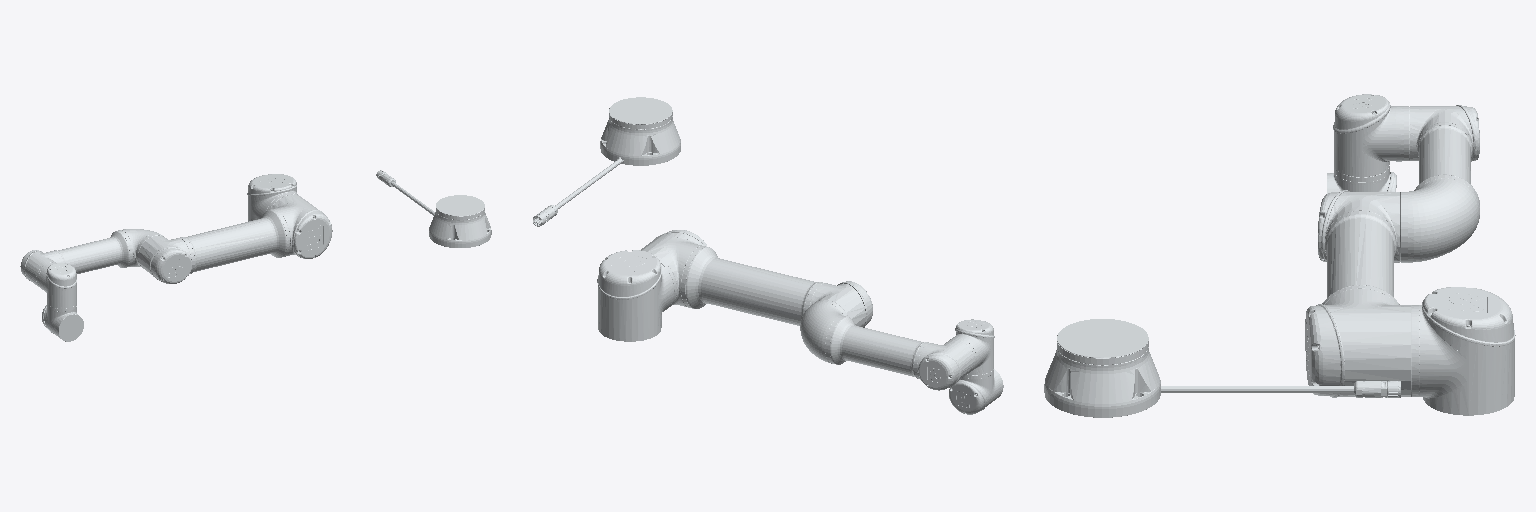
robot.urdf — eSeries_UR16e_15012020_URDF_ONLY:
<?xml version="1.0" encoding="utf-8"?>
<!-- This URDF was automatically created by SolidWorks to URDF Exporter! Originally created by [author] ([email redacted]) 
     Commit Version: 1.5.1-0-g916b5db  Build Version: 1.5.7152.31018
     For more information, please see http://wiki.ros.org/sw_urdf_exporter -->
<robot
  name="eSeries_UR16e_15012020_URDF_ONLY">
  <link
    name="base_link">
    <inertial>
      <origin
        xyz="8.0383E-05 0.0015073 0.059278"
        rpy="0 0 0" />
      <mass
        value="3.3528" />
      <inertia
        ixx="0.0088179"
        ixy="-2.2263E-06"
        ixz="7.1489E-06"
        iyy="0.0098684"
        iyz="0.00021615"
        izz="0.01352" />
    </inertial>
    <visual>
      <origin
        xyz="0 0 0"
        rpy="0 0 0" />
      <geometry>
        <mesh
          filename="package://eSeries_UR16e_15012020_URDF_ONLY/meshes/base_link.STL" />
      </geometry>
      <material
        name="">
        <color
          rgba="0.89804 0.91765 0.92941 1" />
      </material>
    </visual>
    <collision>
      <origin
        xyz="0 0 0"
        rpy="0 0 0" />
      <geometry>
        <mesh
          filename="package://eSeries_UR16e_15012020_URDF_ONLY/meshes/base_link.STL" />
      </geometry>
    </collision>
  </link>
  <link
    name="Shoulder1">
    <inertial>
      <origin
        xyz="-8.131E-07 0.082255 0.013094"
        rpy="0 0 0" />
      <mass
        value="7.369" />
      <inertia
        ixx="0.037903"
        ixy="-3.567E-07"
        ixz="6.5164E-07"
        iyy="0.032113"
        iyz="-0.00061449"
        izz="0.033598" />
    </inertial>
    <visual>
      <origin
        xyz="0 0 0"
        rpy="0 0 0" />
      <geometry>
        <mesh
          filename="package://eSeries_UR16e_15012020_URDF_ONLY/meshes/Shoulder1.STL" />
      </geometry>
      <material
        name="">
        <color
          rgba="0.89804 0.91765 0.92941 1" />
      </material>
    </visual>
    <collision>
      <origin
        xyz="0 0 0"
        rpy="0 0 0" />
      <geometry>
        <mesh
          filename="package://eSeries_UR16e_15012020_URDF_ONLY/meshes/Shoulder1.STL" />
      </geometry>
    </collision>
  </link>
  <joint
    name="J1"
    type="revolute">
    <origin
      xyz="0 0 0.0993"
      rpy="1.5708 0 0" />
    <parent
      link="base_link" />
    <child
      link="Shoulder1" />
    <axis
      xyz="0 1 0" />
    <limit
      lower="-6.28"
      upper="6.28"
      effort="0"
      velocity="2.094" />
    <dynamics
      damping="1.5"
      friction="1" />
    <safety_controller
      soft_upper="6"
      soft_lower="-6"
      k_velocity="2.094" />
  </joint>
  <link
    name="Shoulder2">
    <inertial>
      <origin
        xyz="-4.978E-08 0.18974 0.081646"
        rpy="0 0 0" />
      <mass
        value="10.45" />
      <inertia
        ixx="0.77144"
        ixy="-6.1908E-06"
        ixz="2.1756E-07"
        iyy="0.055717"
        iyz="0.0015624"
        izz="0.76424" />
    </inertial>
    <visual>
      <origin
        xyz="0 0 0"
        rpy="0 0 0" />
      <geometry>
        <mesh
          filename="package://eSeries_UR16e_15012020_URDF_ONLY/meshes/Shoulder2.STL" />
      </geometry>
      <material
        name="">
        <color
          rgba="0.89804 0.91765 0.92941 1" />
      </material>
    </visual>
    <collision>
      <origin
        xyz="0 0 0"
        rpy="0 0 0" />
      <geometry>
        <mesh
          filename="package://eSeries_UR16e_15012020_URDF_ONLY/meshes/Shoulder2.STL" />
      </geometry>
    </collision>
  </link>
  <joint
    name="J2"
    type="revolute">
    <origin
      xyz="0 0.0814 0.0946"
      rpy="0 0 1.5708" />
    <parent
      link="Shoulder1" />
    <child
      link="Shoulder2" />
    <axis
      xyz="0 0 1" />
    <limit
      lower="-6.28"
      upper="6.28"
      effort="0"
      velocity="2.094" />
    <dynamics
      damping="1.5"
      friction="1" />
    <safety_controller
      soft_upper="6"
      soft_lower="-6"
      k_velocity="2.094" />
  </joint>
  <link
    name="Elbow">
    <inertial>
      <origin
        xyz="-1.5433E-05 0.16483 -0.048444"
        rpy="0 0 0" />
      <mass
        value="4.321" />
      <inertia
        ixx="0.18067"
        ixy="-1.5315E-05"
        ixz="-4.3945E-06"
        iyy="0.013863"
        iyz="0.0099125"
        izz="0.1784" />
    </inertial>
    <visual>
      <origin
        xyz="0 0 0"
        rpy="0 0 0" />
      <geometry>
        <mesh
          filename="package://eSeries_UR16e_15012020_URDF_ONLY/meshes/Elbow.STL" />
      </geometry>
      <material
        name="">
        <color
          rgba="0.89804 0.91765 0.92941 1" />
      </material>
    </visual>
    <collision>
      <origin
        xyz="0 0 0"
        rpy="0 0 0" />
      <geometry>
        <mesh
          filename="package://eSeries_UR16e_15012020_URDF_ONLY/meshes/Elbow.STL" />
      </geometry>
    </collision>
  </link>
  <joint
    name="J3"
    type="revolute">
    <origin
      xyz="0 0.4784 0"
      rpy="0 0 0" />
    <parent
      link="Shoulder2" />
    <child
      link="Elbow" />
    <axis
      xyz="0 0 1" />
    <limit
      lower="-6.28"
      upper="6.28"
      effort="0"
      velocity="3.141" />
    <dynamics
      damping="1.5"
      friction="1" />
    <safety_controller
      soft_upper="6"
      soft_lower="-6"
      k_velocity="3.141" />
  </joint>
  <link
    name="Wrist1">
    <inertial>
      <origin
        xyz="6.1842E-06 0.0015493 0.063631"
        rpy="0 0 0" />
      <mass
        value="2.180" />
      <inertia
        ixx="0.0049204"
        ixy="6.4665E-08"
        ixz="1.101E-07"
        iyy="0.0040693"
        iyz="-0.00012544"
        izz="0.0035835" />
    </inertial>
    <visual>
      <origin
        xyz="0 0 0"
        rpy="0 0 0" />
      <geometry>
        <mesh
          filename="package://eSeries_UR16e_15012020_URDF_ONLY/meshes/Wrist1.STL" />
      </geometry>
      <material
        name="">
        <color
          rgba="0.89804 0.91765 0.92941 1" />
      </material>
    </visual>
    <collision>
      <origin
        xyz="0 0 0"
        rpy="0 0 0" />
      <geometry>
        <mesh
          filename="package://eSeries_UR16e_15012020_URDF_ONLY/meshes/Wrist1.STL" />
      </geometry>
    </collision>
  </link>
  <joint
    name="J4"
    type="revolute">
    <origin
      xyz="0 0.36 0"
      rpy="0 0 1.5707963267949" />
    <parent
      link="Elbow" />
    <child
      link="Wrist1" />
    <axis
      xyz="0 0 1" />
    <limit
      lower="-6.28"
      upper="6.28"
      effort="0"
      velocity="3.141" />
    <dynamics
      damping="1"
      friction="1" />
    <safety_controller
      soft_upper="6"
      soft_lower="-6"
      k_velocity="3.141" />
  </joint>
  <link
    name="Wrist2">
    <inertial>
      <origin
        xyz="1.976E-07 0.1069 0.0017385"
        rpy="0 0 0" />
      <mass
        value="2.033" />
      <inertia
        ixx="0.0038851"
        ixy="-6.9243E-08"
        ixz="-3.5564E-08"
        iyy="0.0033105"
        iyz="-0.00010011"
        izz="0.0030368" />
    </inertial>
    <visual>
      <origin
        xyz="0 0 0"
        rpy="0 0 0" />
      <geometry>
        <mesh
          filename="package://eSeries_UR16e_15012020_URDF_ONLY/meshes/Wrist2.STL" />
      </geometry>
      <material
        name="">
        <color
          rgba="0.89804 0.91765 0.92941 1" />
      </material>
    </visual>
    <collision>
      <origin
        xyz="0 0 0"
        rpy="0 0 0" />
      <geometry>
        <mesh
          filename="package://eSeries_UR16e_15012020_URDF_ONLY/meshes/Wrist2.STL" />
      </geometry>
    </collision>
  </link>
  <joint
    name="J5"
    type="revolute">
    <origin
      xyz="0 0.00334216106109189 0.0795500000000001"
      rpy="0 0 0" />
    <parent
      link="Wrist1" />
    <child
      link="Wrist2" />
    <axis
      xyz="0 1 0" />
    <limit
      lower="-6.28"
      upper="6.28"
      effort="0"
      velocity="3.141" />
    <dynamics
      damping="1.5"
      friction="1" />
    <safety_controller
      soft_upper="6"
      soft_lower="-6"
      k_velocity="3.141" />
  </joint>
  <link
    name="Wrist3">
    <inertial>
      <origin
        xyz="5.5566E-10 -7.868E-05 0.027763"
        rpy="0 0 0" />
      <mass
        value="0.907" />
      <inertia
        ixx="0.00071366"
        ixy="-4.1E-11"
        ixz="1.3847E-11"
        iyy="0.00071623"
        iyz="1.3964E-07"
        izz="0.0009382" />
    </inertial>
    <visual>
      <origin
        xyz="0 0 0"
        rpy="0 0 0" />
      <geometry>
        <mesh
          filename="package://eSeries_UR16e_15012020_URDF_ONLY/meshes/Wrist3.STL" />
      </geometry>
      <material
        name="">
        <color
          rgba="0.89804 0.91765 0.92941 1" />
      </material>
    </visual>
    <collision>
      <origin
        xyz="0 0 0"
        rpy="0 0 0" />
      <geometry>
        <mesh
          filename="package://eSeries_UR16e_15012020_URDF_ONLY/meshes/Wrist3.STL" />
      </geometry>
    </collision>
  </link>
  <joint
    name="J6"
    type="revolute">
    <origin
      xyz="0 0.116507838938908 0.0569000000000009"
      rpy="0 0 0" />
    <parent
      link="Wrist2" />
    <child
      link="Wrist3" />
    <axis
      xyz="0 0 1" />
    <limit
      lower="-6.28"
      upper="6.28"
      effort="0"
      velocity="3.141" />
    <dynamics
      damping="1.5"
      friction="1" />
    <safety_controller
      soft_upper="6"
      soft_lower="-6"
      k_velocity="3.141" />
  </joint>
</robot>

--- Render facts (derived) ---
Views: 3 orthographic renders of the robot side by side, from view 1: azimuth 30°, elevation 25°; view 2: azimuth 150°, elevation 25°; view 3: azimuth 270°, elevation 25°.
Model eSeries_UR16e_15012020_URDF_ONLY with 7 links and 6 joints (6 revolute), rooted at base_link, posed every joint at zero.
Links seen in each view (by area): view 1: Shoulder2, Elbow, base_link, Wrist1, Shoulder1, Wrist2; view 2: Shoulder2, Elbow, Shoulder1, base_link, Wrist2, Wrist1; view 3: Shoulder2, Shoulder1, base_link, Elbow, Wrist1, Wrist2.
Boxes of the visible links, x1,y1,x2,y2 form: Shoulder2: [138, 195, 332, 283]; Elbow: [20, 229, 163, 286]; base_link: [376, 170, 491, 247]; Wrist1: [36, 262, 76, 308]; Shoulder1: [247, 174, 300, 221]; Wrist2: [42, 304, 83, 341]; Shoulder2: [641, 230, 872, 327]; Elbow: [800, 300, 974, 390]; Shoulder1: [597, 250, 676, 341]; base_link: [533, 97, 680, 226]; Wrist2: [949, 369, 1003, 414]; Wrist1: [949, 319, 994, 374]; Shoulder2: [1305, 190, 1410, 397]; Shoulder1: [1411, 287, 1515, 415]; base_link: [1044, 319, 1400, 417]; Elbow: [1400, 105, 1479, 262]; Wrist1: [1333, 94, 1409, 176]; Wrist2: [1327, 166, 1396, 193].
Bounding box of the posed robot: 1.3 × 0.7681 × 0.3369 m (x, y, z).
Meshes: 7 distinct files referenced, 6 mesh visuals loaded (6 binary STL); not drawn: 1 (reference not matched to a file when rendering).